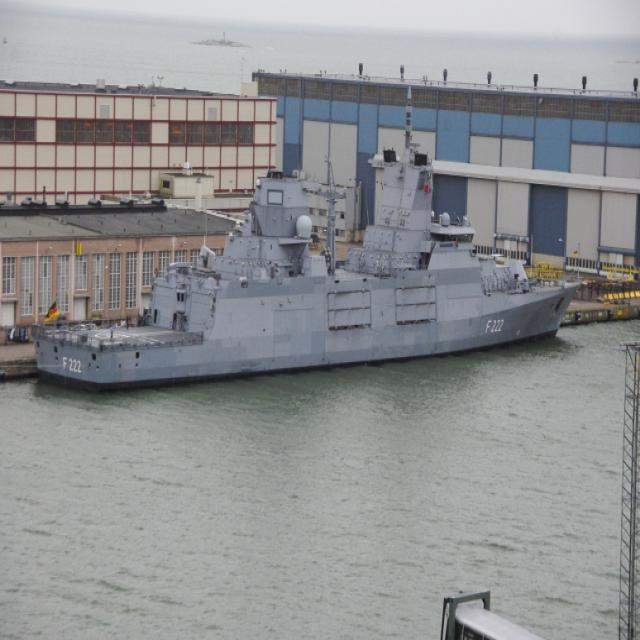Fragata: (28, 70, 594, 401)
